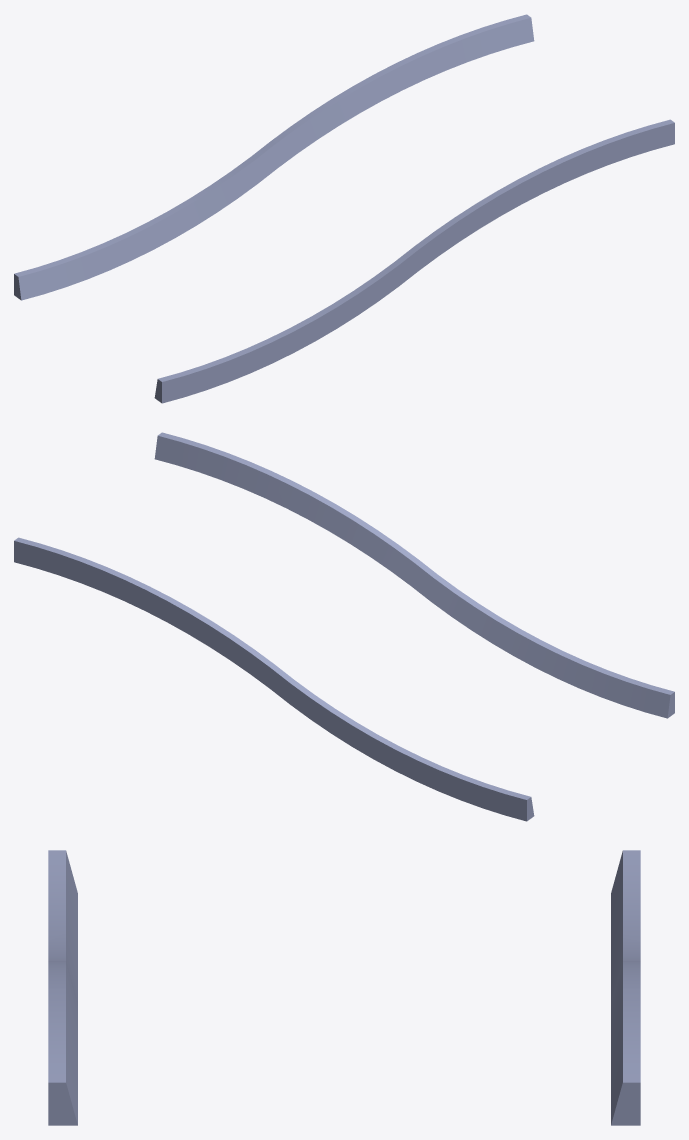
Rendered from road-slant-curve-barrier.glb.
3 renders of one model, top to bottom at view 1: azimuth 30°, elevation 25°; view 2: azimuth 150°, elevation 25°; view 3: azimuth 270°, elevation 25°, orthographic. The views are drawn at different scales.
Parts seen in each view (by area): view 1: road-slant-curve-barrier; view 2: road-slant-curve-barrier; view 3: road-slant-curve-barrier.
Boxes of the visible parts, x1,y1,x2,y2 form: road-slant-curve-barrier: (14, 14, 674, 403); road-slant-curve-barrier: (14, 432, 674, 821); road-slant-curve-barrier: (48, 850, 640, 1125).
Bounding box in the file's own units: 2 × 0.58 × 1.
1 material, 1 textured.
